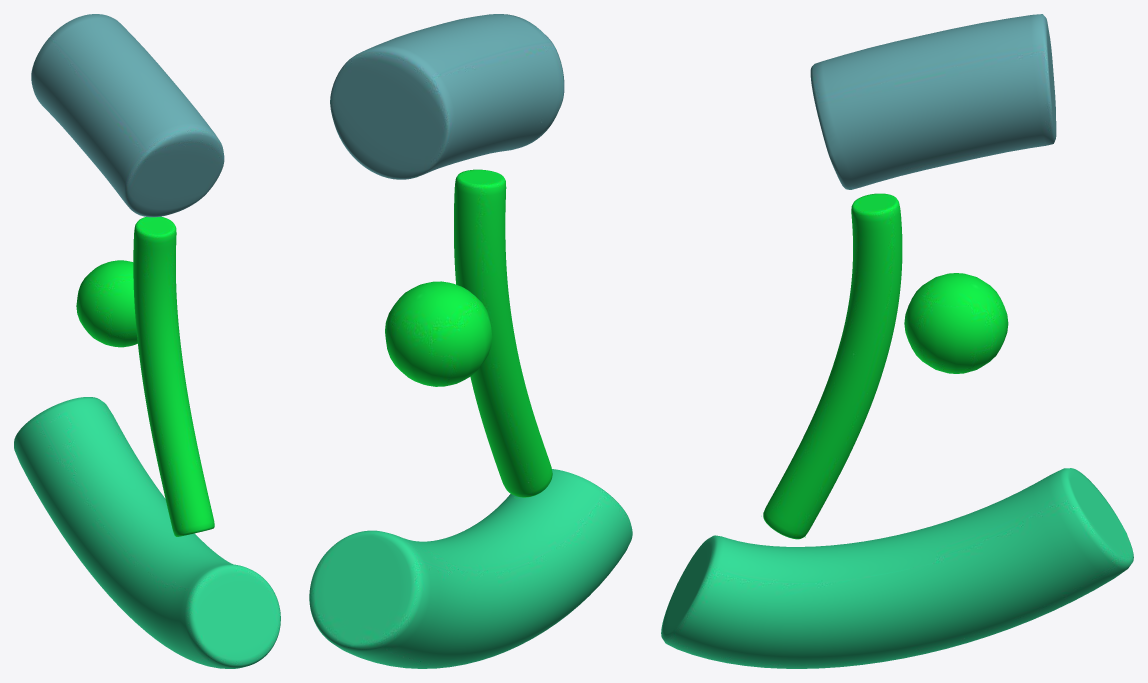
3 views of the same model, side by side, from view 1: azimuth 30°, elevation 25°; view 2: azimuth 150°, elevation 25°; view 3: azimuth 270°, elevation 25° (orthographic). The views are drawn at different scales.
Visible parts, largest first — view 1: E; view 2: E; view 3: E.
Boxes of the visible parts, x1,y1,x2,y2 form: E: (14, 14, 280, 668); E: (309, 14, 632, 668); E: (661, 14, 1133, 668).
Size of the model in its own units: 0.2174 by 1.17 by 0.7786.
Materials: 1 (1 with a texture image).
